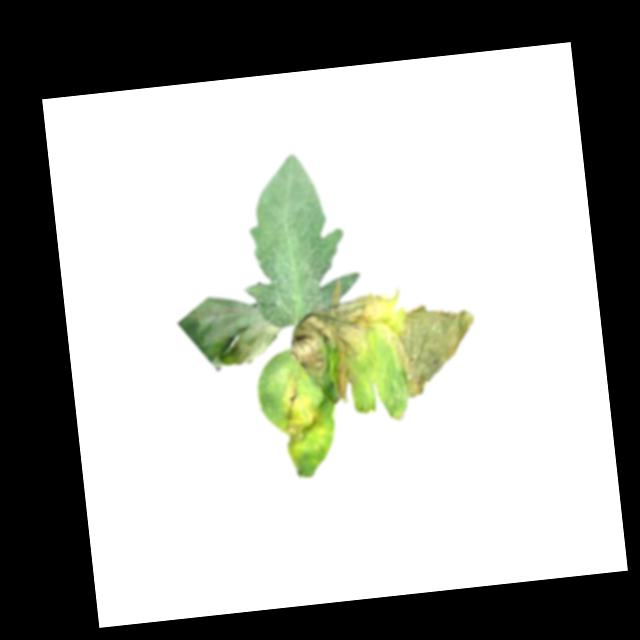Late_blight: (287, 293, 396, 408), (175, 289, 286, 376), (389, 299, 483, 400), (276, 377, 323, 446)
healthy: (231, 145, 367, 330)
